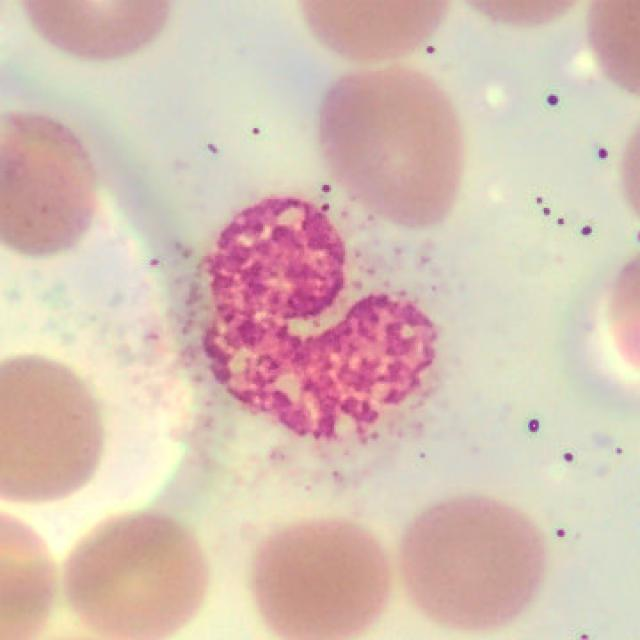Bastonete: (187, 197, 443, 446)
